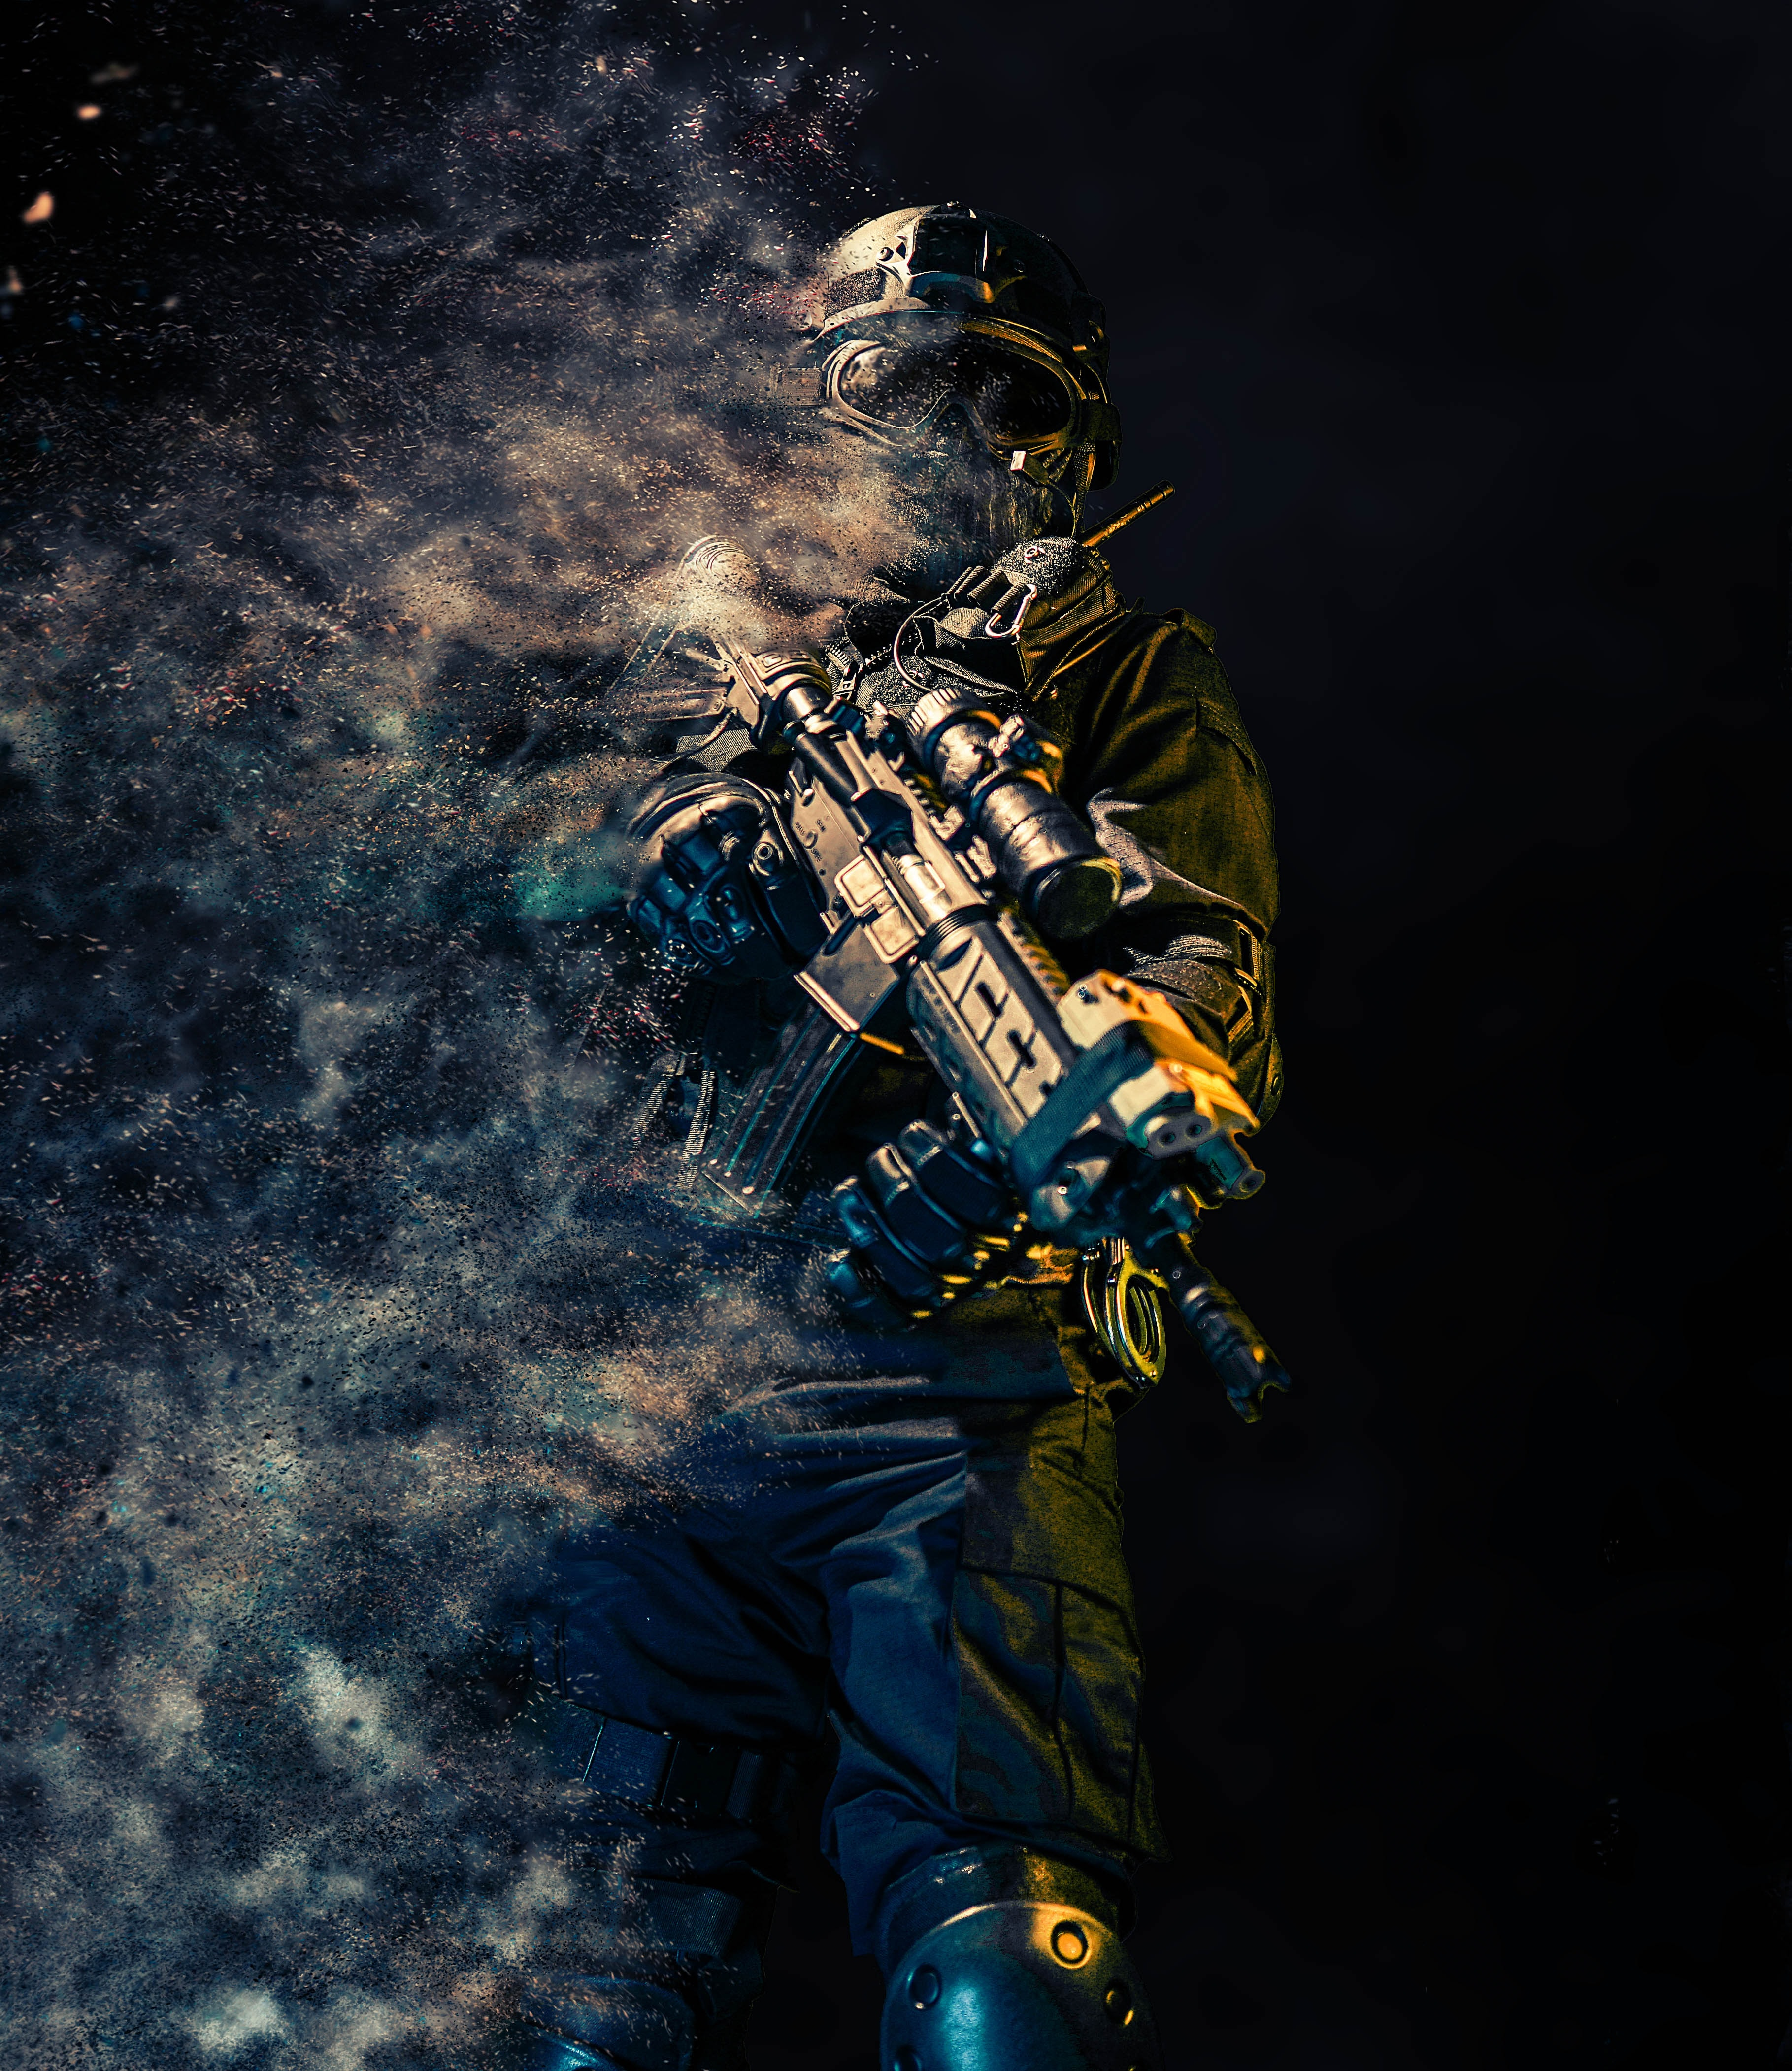Gun: (687, 497, 1249, 1449)
